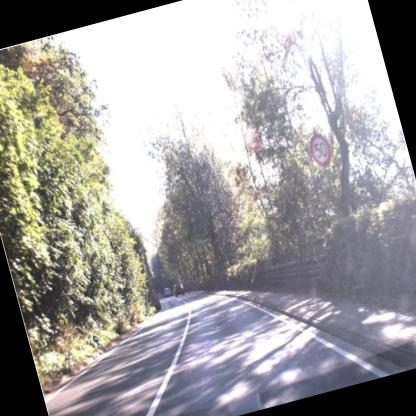prohibitory: (304, 124, 340, 174)
